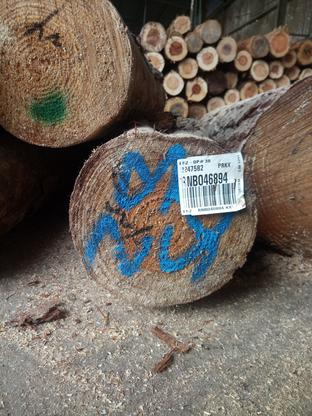mood: (69, 132, 260, 306)
